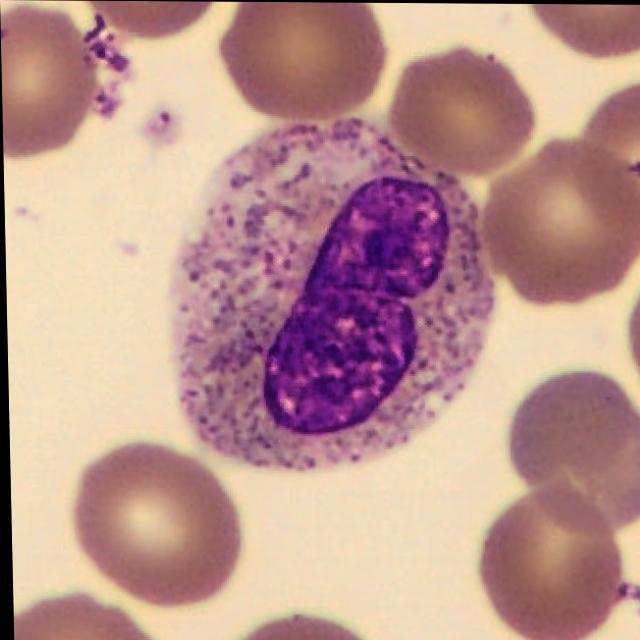Neutrofilo segmentado: (171, 118, 494, 471)
